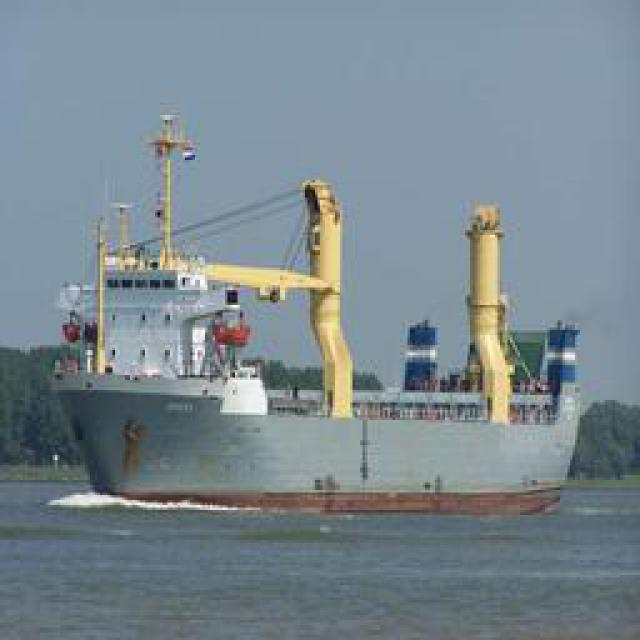Ship: (54, 119, 467, 509)
